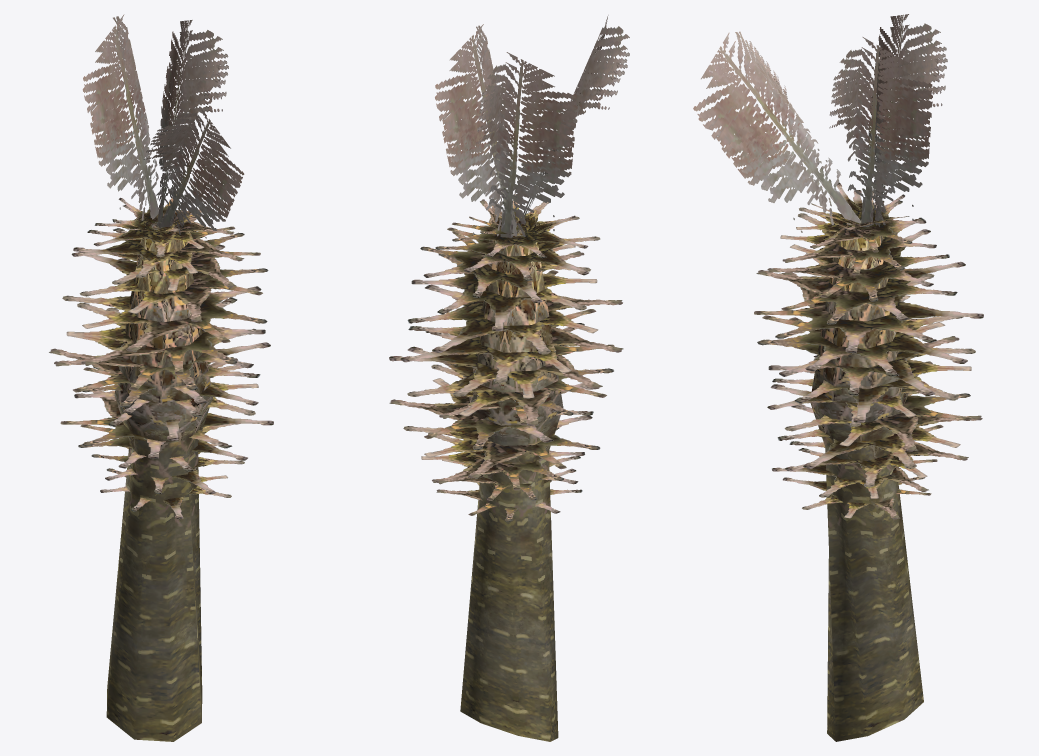
File: flora_tree_date_palm_dead.glb
3 views of the same model, side by side, from view 1: azimuth 30°, elevation 25°; view 2: azimuth 150°, elevation 25°; view 3: azimuth 270°, elevation 25° (orthographic). The views are drawn at different scales.
Parts seen in each view (by area): view 1: flora_tree_date_palm_dead_part0; view 2: flora_tree_date_palm_dead_part0; view 3: flora_tree_date_palm_dead_part0.
Boxes of the visible parts, <box> form: flora_tree_date_palm_dead_part0: <box>49,14,273,741</box>; flora_tree_date_palm_dead_part0: <box>389,15,629,741</box>; flora_tree_date_palm_dead_part0: <box>693,14,983,741</box>.
Bounding box in the file's own units: 3.11 × 7.72 × 3.3.
Materials: 1 (1 with a texture image).
